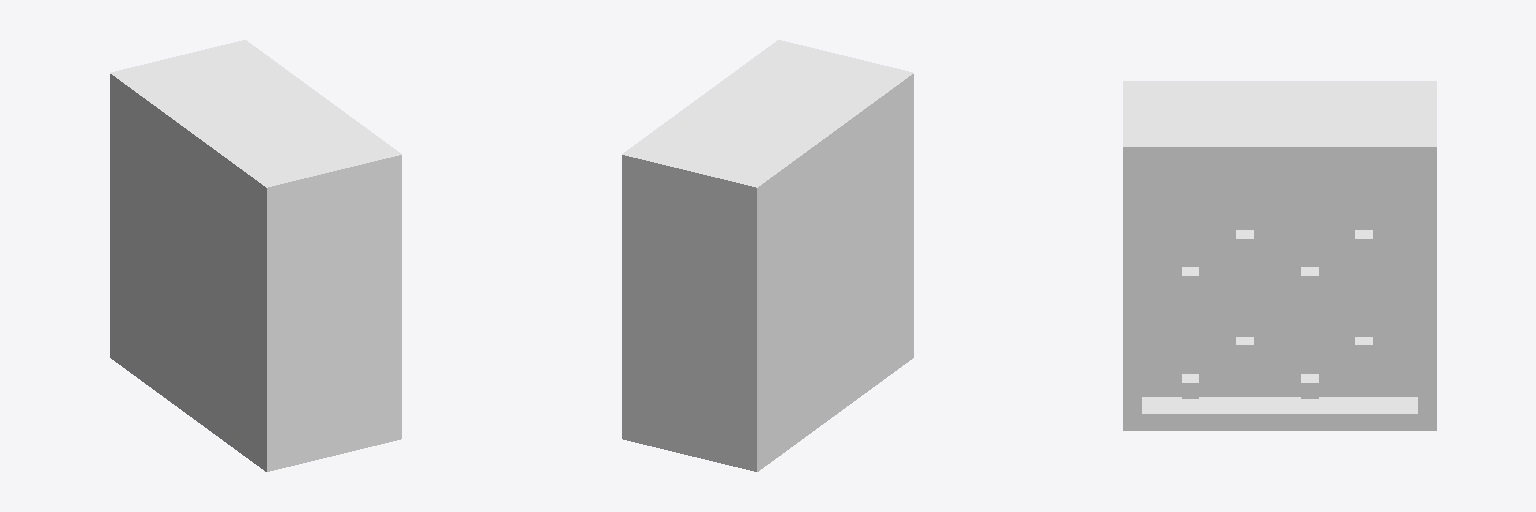
File: toolrack.obj
3 renders of one model, left to right at view 1: azimuth 30°, elevation 25°; view 2: azimuth 150°, elevation 25°; view 3: azimuth 270°, elevation 25°, orthographic.
Visible parts, largest first — view 1: base; view 2: base; view 3: base, nubs.
Boxes of the visible parts, x1=… form: base: x1=110, y1=40, x2=401, y2=471; base: x1=622, y1=40, x2=913, y2=471; base: x1=1123, y1=81, x2=1436, y2=430; nubs: x1=1182, y1=230, x2=1372, y2=398.
Size of the model in its own units: 0.5 by 1 by 1.